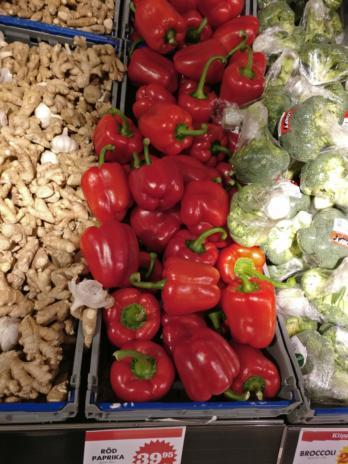Capsicum: (131, 0, 234, 401), (82, 113, 152, 287), (218, 246, 286, 398)
